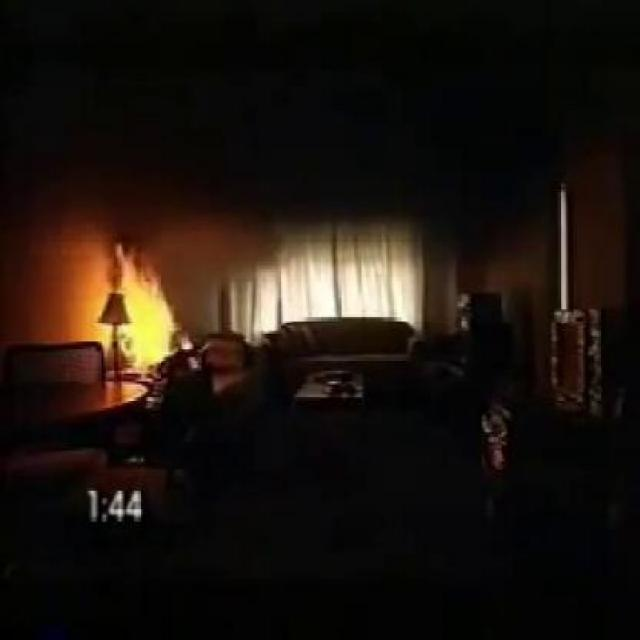fire: (118, 258, 182, 360)
